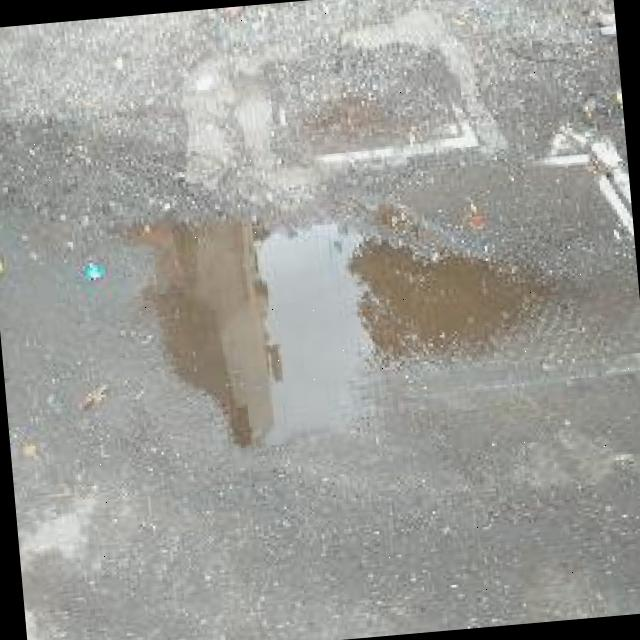stagnation: (100, 143, 620, 484)
